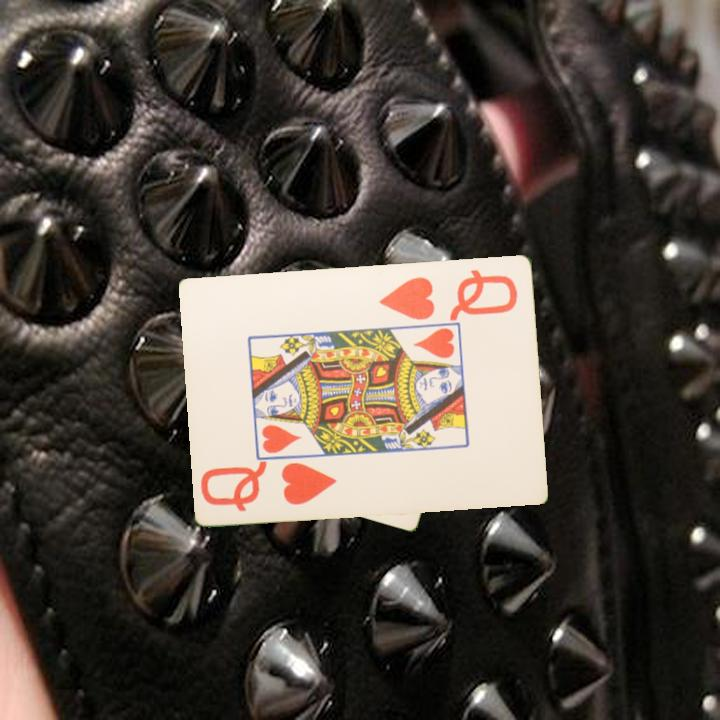Qh: (376, 265, 521, 323), (197, 458, 340, 514)
